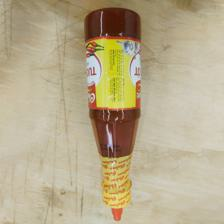Tuong: (83, 5, 142, 224)
